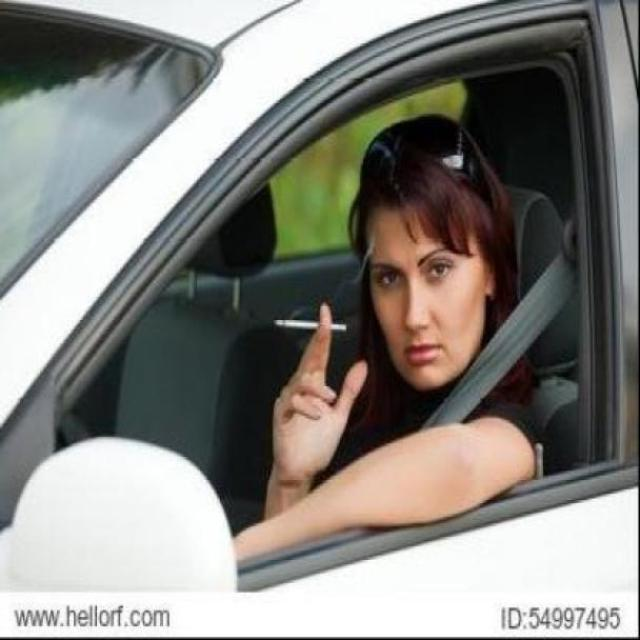rokok: (267, 314, 351, 336)
